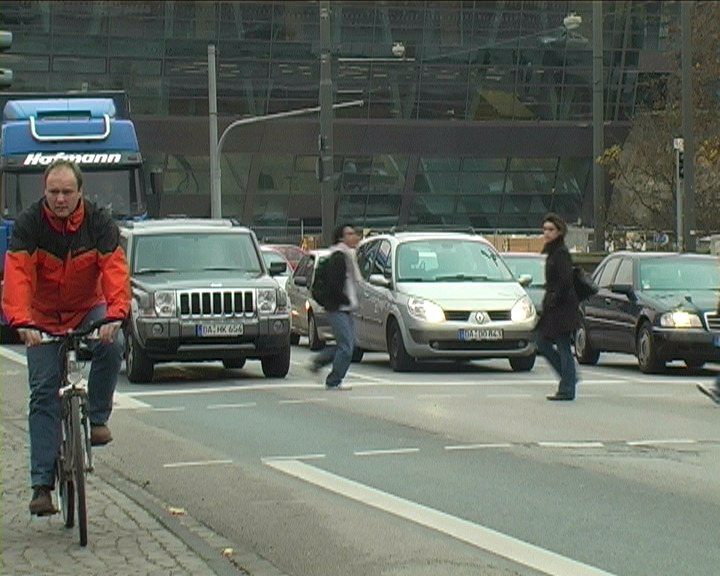deflection: (533, 212, 584, 311)
